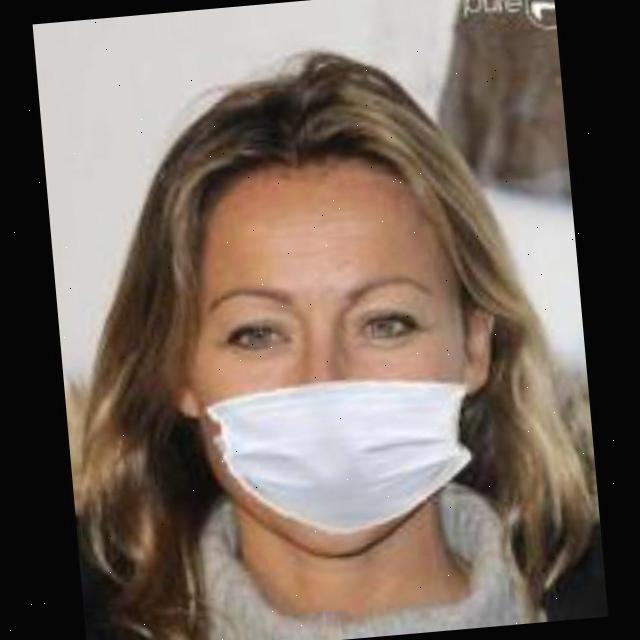suspicion: (152, 102, 546, 580)
